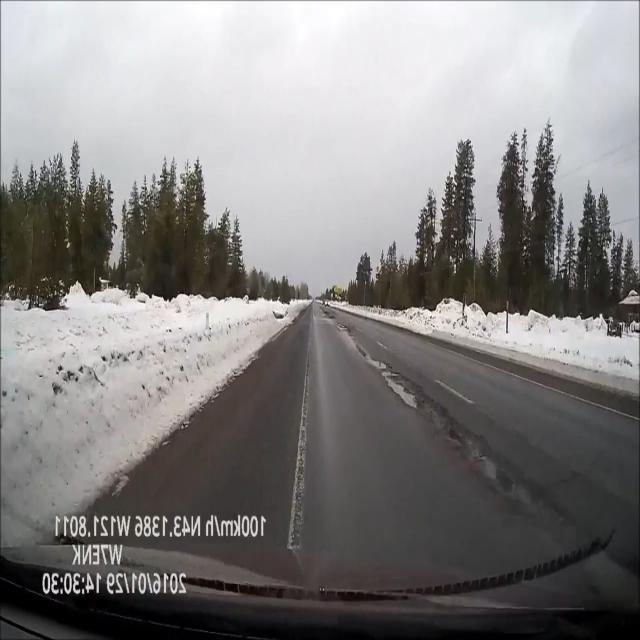pothole: (462, 443, 557, 539), (380, 368, 453, 417)
